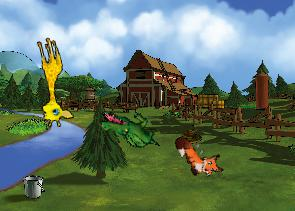crocodile: (99, 110, 160, 148)
fox: (171, 124, 227, 186)
giraffe: (25, 35, 75, 129)
